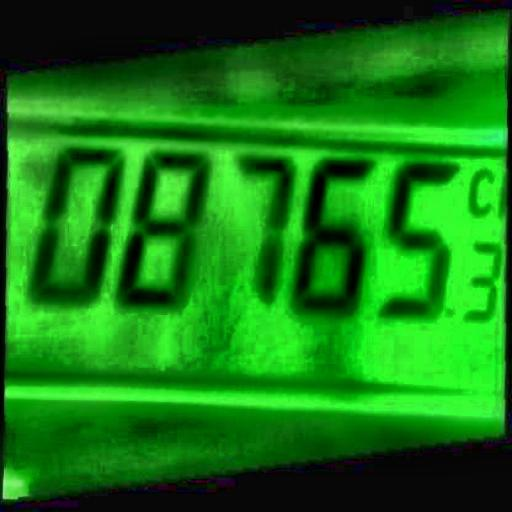SERIAL_REGION: (25, 144, 473, 333)
